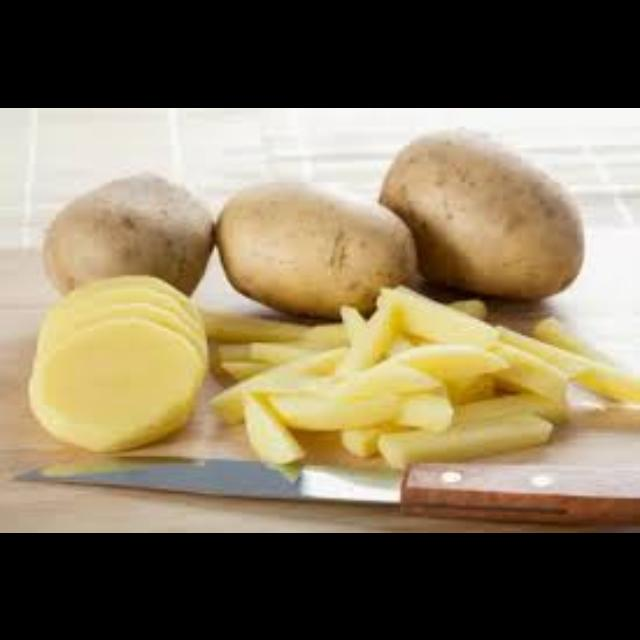Potato: (380, 118, 590, 306), (208, 175, 422, 328), (39, 164, 218, 324)
